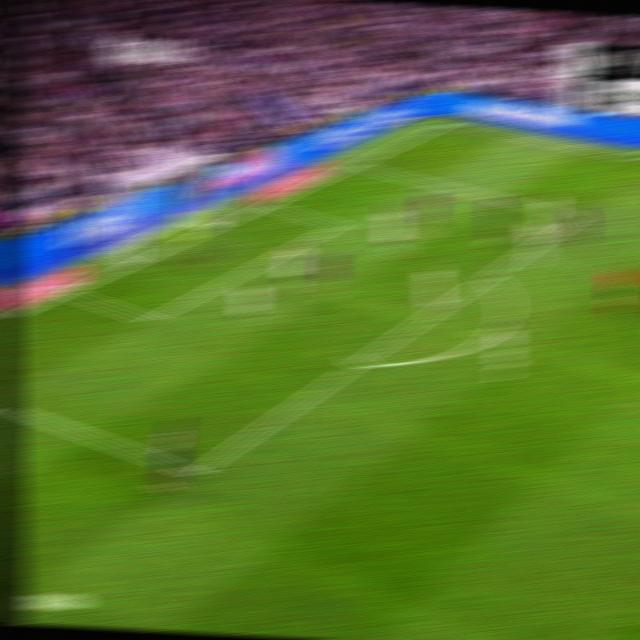bigarea_bottom_inner: (182, 459, 208, 488)
bigarea_top_outter: (346, 156, 368, 171)
bottom_arc_area_intersection: (344, 351, 371, 375)
corner: (436, 115, 461, 128)
smallarea_bottom_inner: (140, 309, 162, 328)
smallarea_top_inner: (326, 216, 348, 233)
top_arc_area_intersection: (478, 268, 499, 285)
